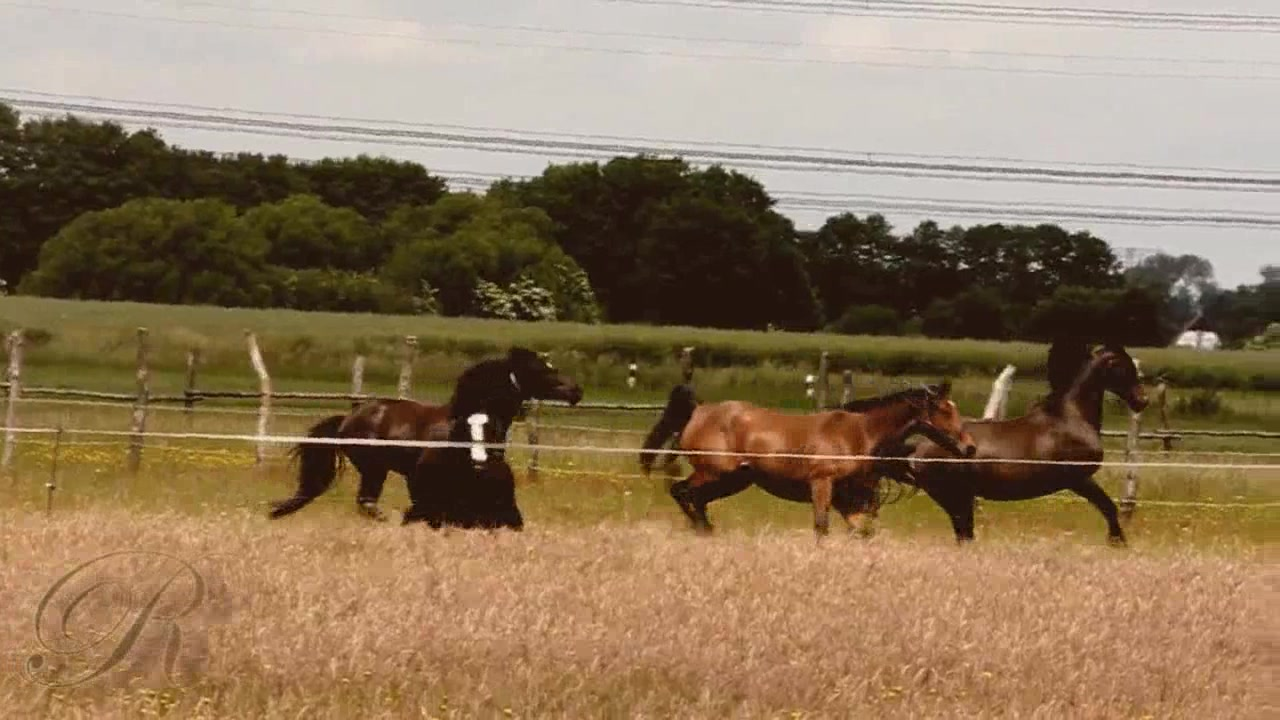horse: (267, 339, 589, 528), (638, 380, 980, 543), (899, 332, 1151, 551), (404, 399, 526, 537)
